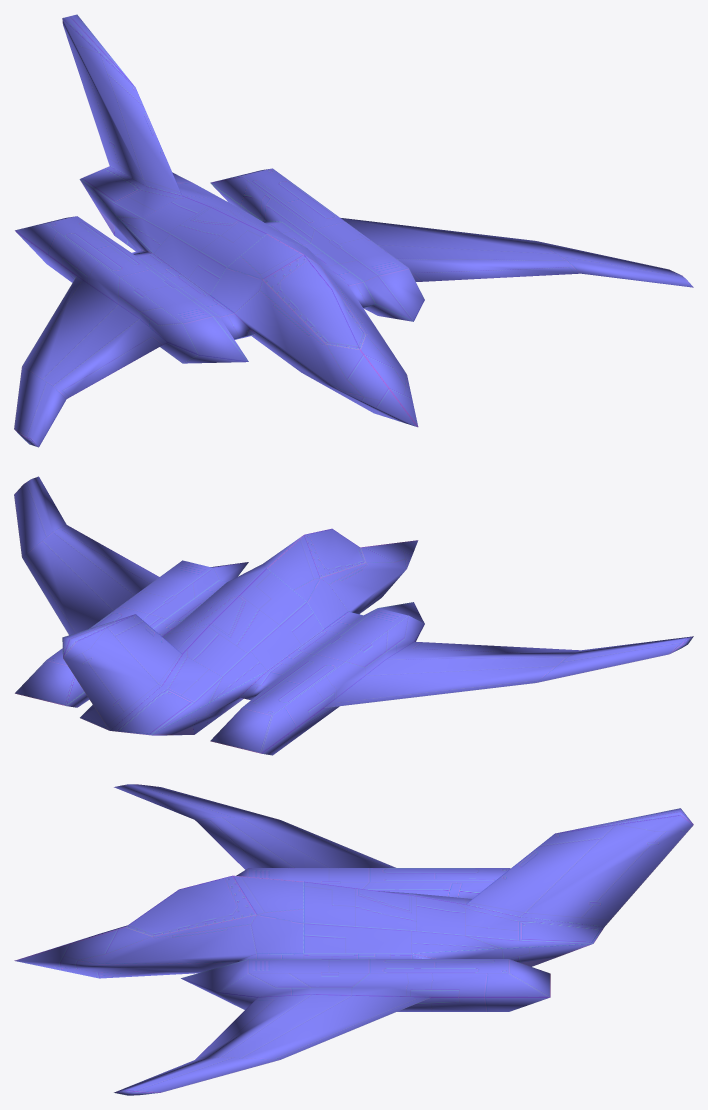
Rendered from BombFighter.fbx.
3 renders of one model, top to bottom at view 1: azimuth 30°, elevation 25°; view 2: azimuth 150°, elevation 25°; view 3: azimuth 270°, elevation 25°, orthographic. The views are drawn at different scales.
Parts seen in each view (by area): view 1: Cube; view 2: Cube; view 3: Cube.
Part boxes in pixels (x1,y1,x2,y2): Cube: (14,14,693,447); Cube: (14,476,693,755); Cube: (14,784,693,1095).
Size of the model in its own units: 400 by 101 by 374.
